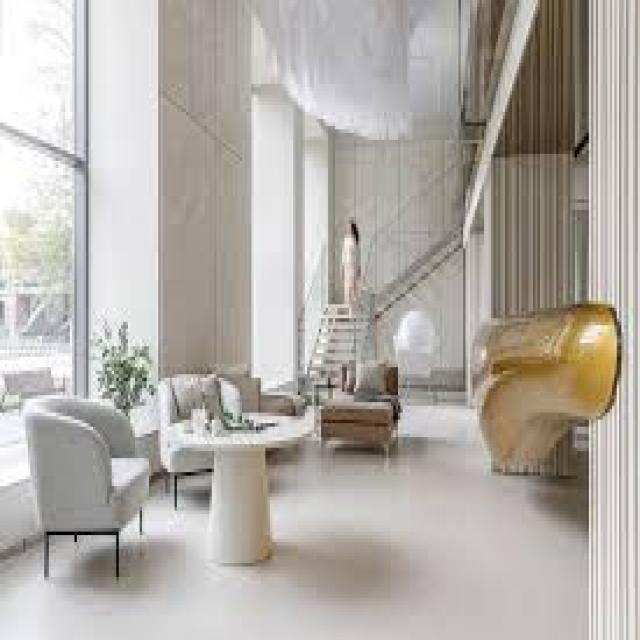Chair: (10, 375, 146, 604), (161, 366, 241, 492), (330, 359, 401, 476)
Table: (162, 387, 310, 580)
